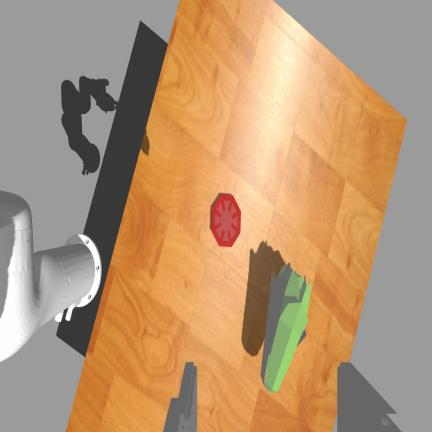lettuce: (261, 263, 311, 392)
sliced_tomato: (211, 194, 241, 247)
